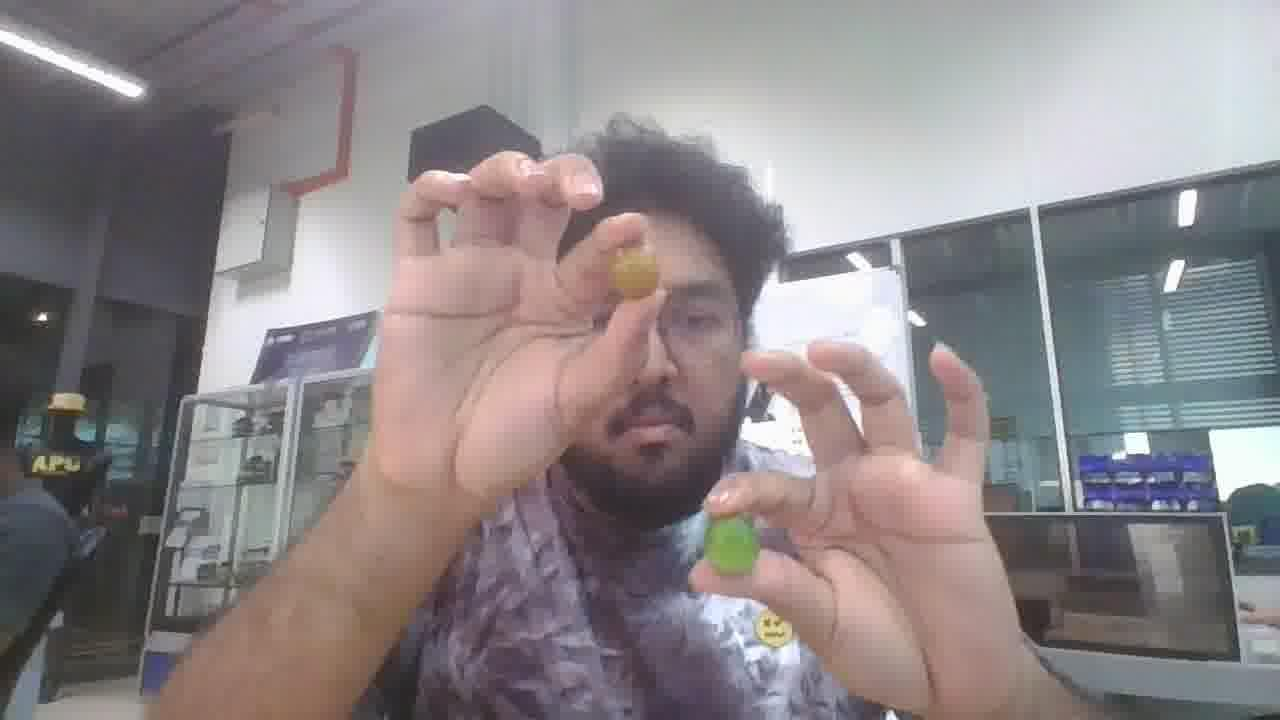green_cherry_tomato: (704, 515, 760, 575)
yellow_cherry_tomato: (610, 248, 658, 299)
